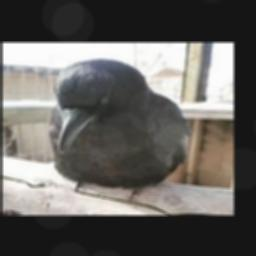Crow: (48, 58, 192, 202)
